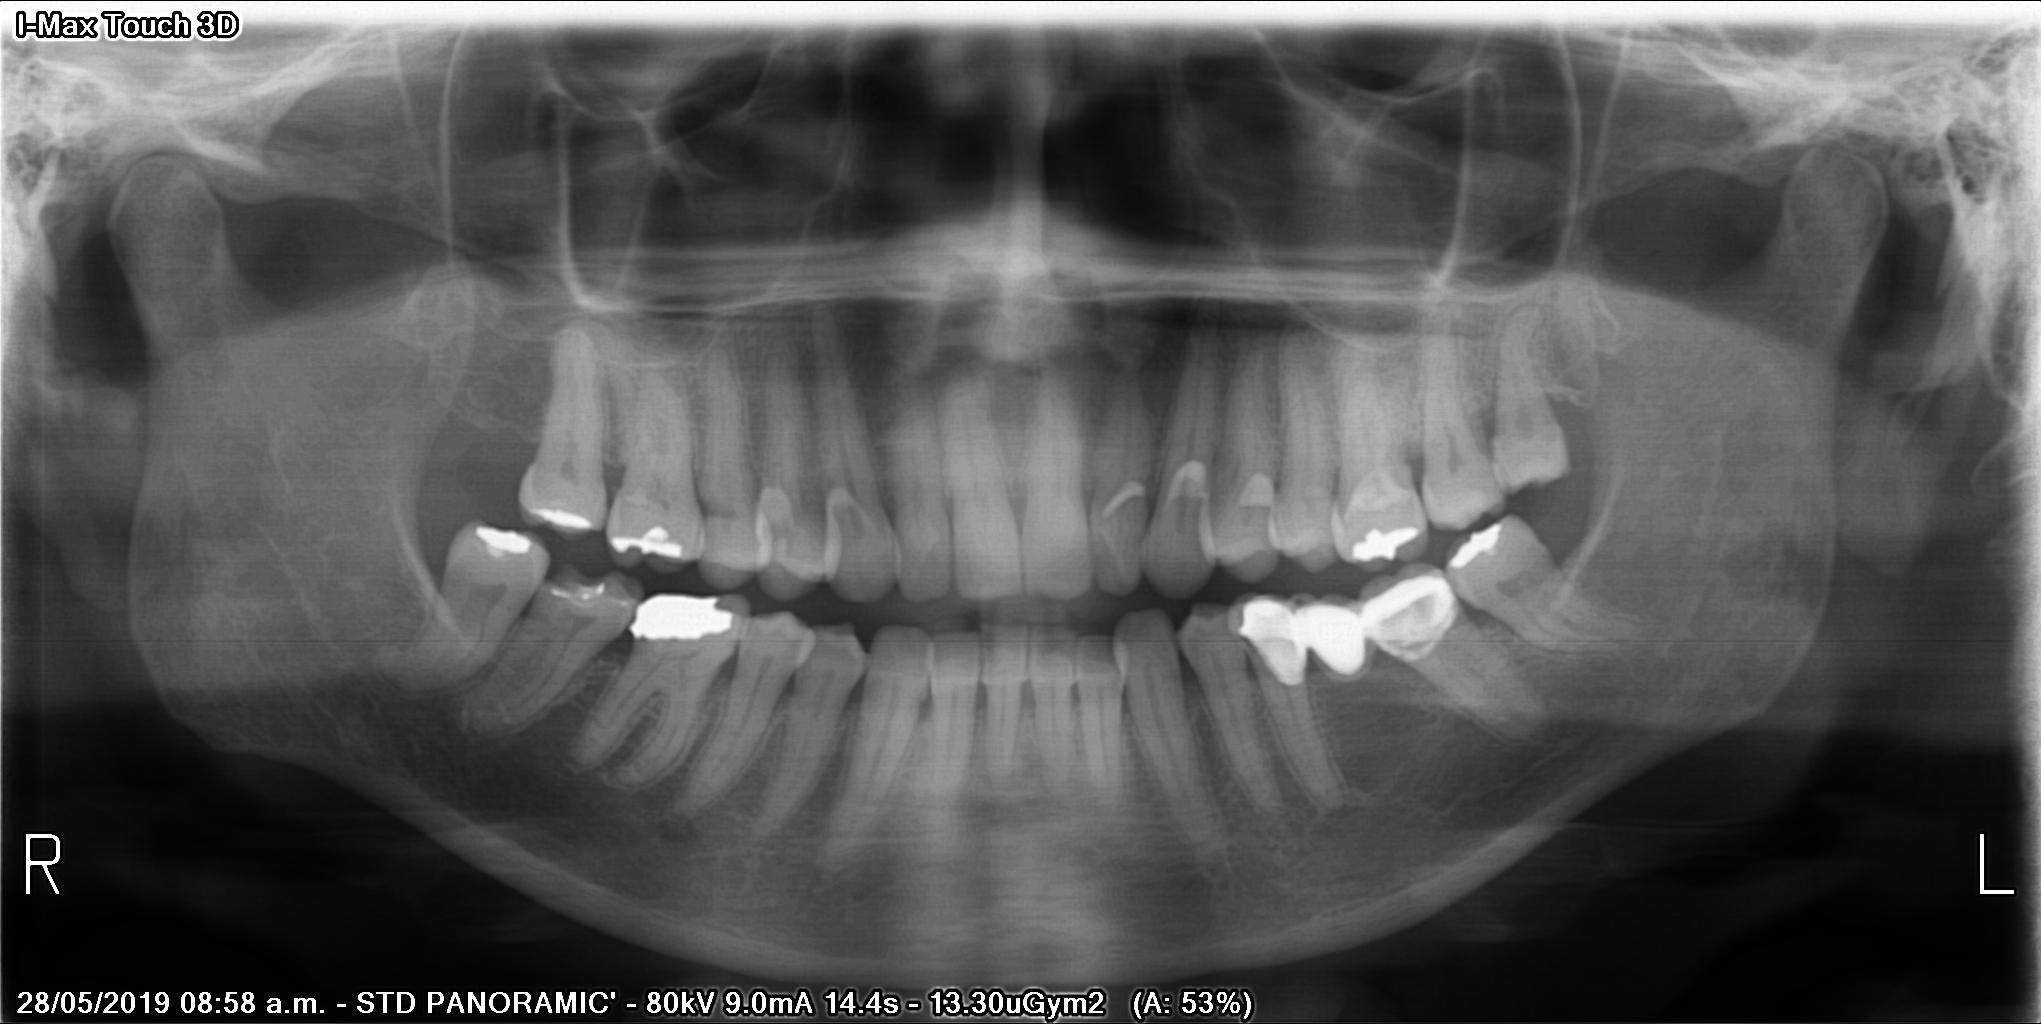Çürük: (1370, 573, 1453, 660), (605, 596, 739, 648), (1243, 590, 1307, 677), (1302, 596, 1372, 671), (1344, 513, 1427, 568), (607, 513, 693, 564), (1446, 513, 1512, 573), (471, 511, 537, 564), (537, 485, 595, 538), (558, 575, 609, 607)
Çürük Bölgesi: (1238, 636, 1265, 675)
